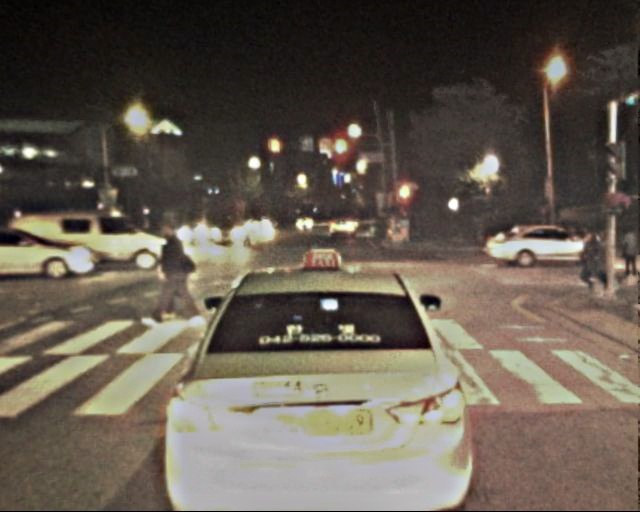person: (151, 215, 196, 324), (575, 231, 602, 296), (589, 229, 615, 292), (619, 227, 640, 286)
